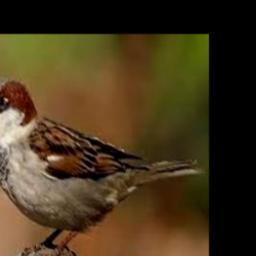Sparrow: (0, 78, 205, 256)
